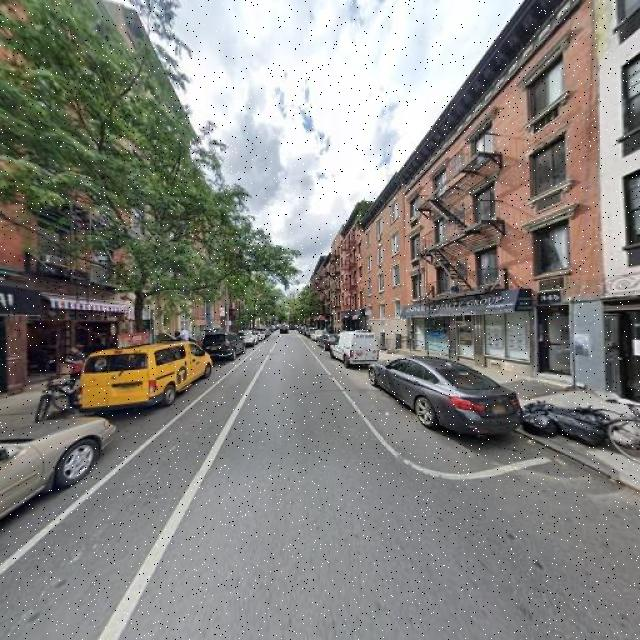Building: (404, 1, 593, 398), (1, 1, 95, 393), (600, 1, 640, 409), (362, 174, 400, 347)
